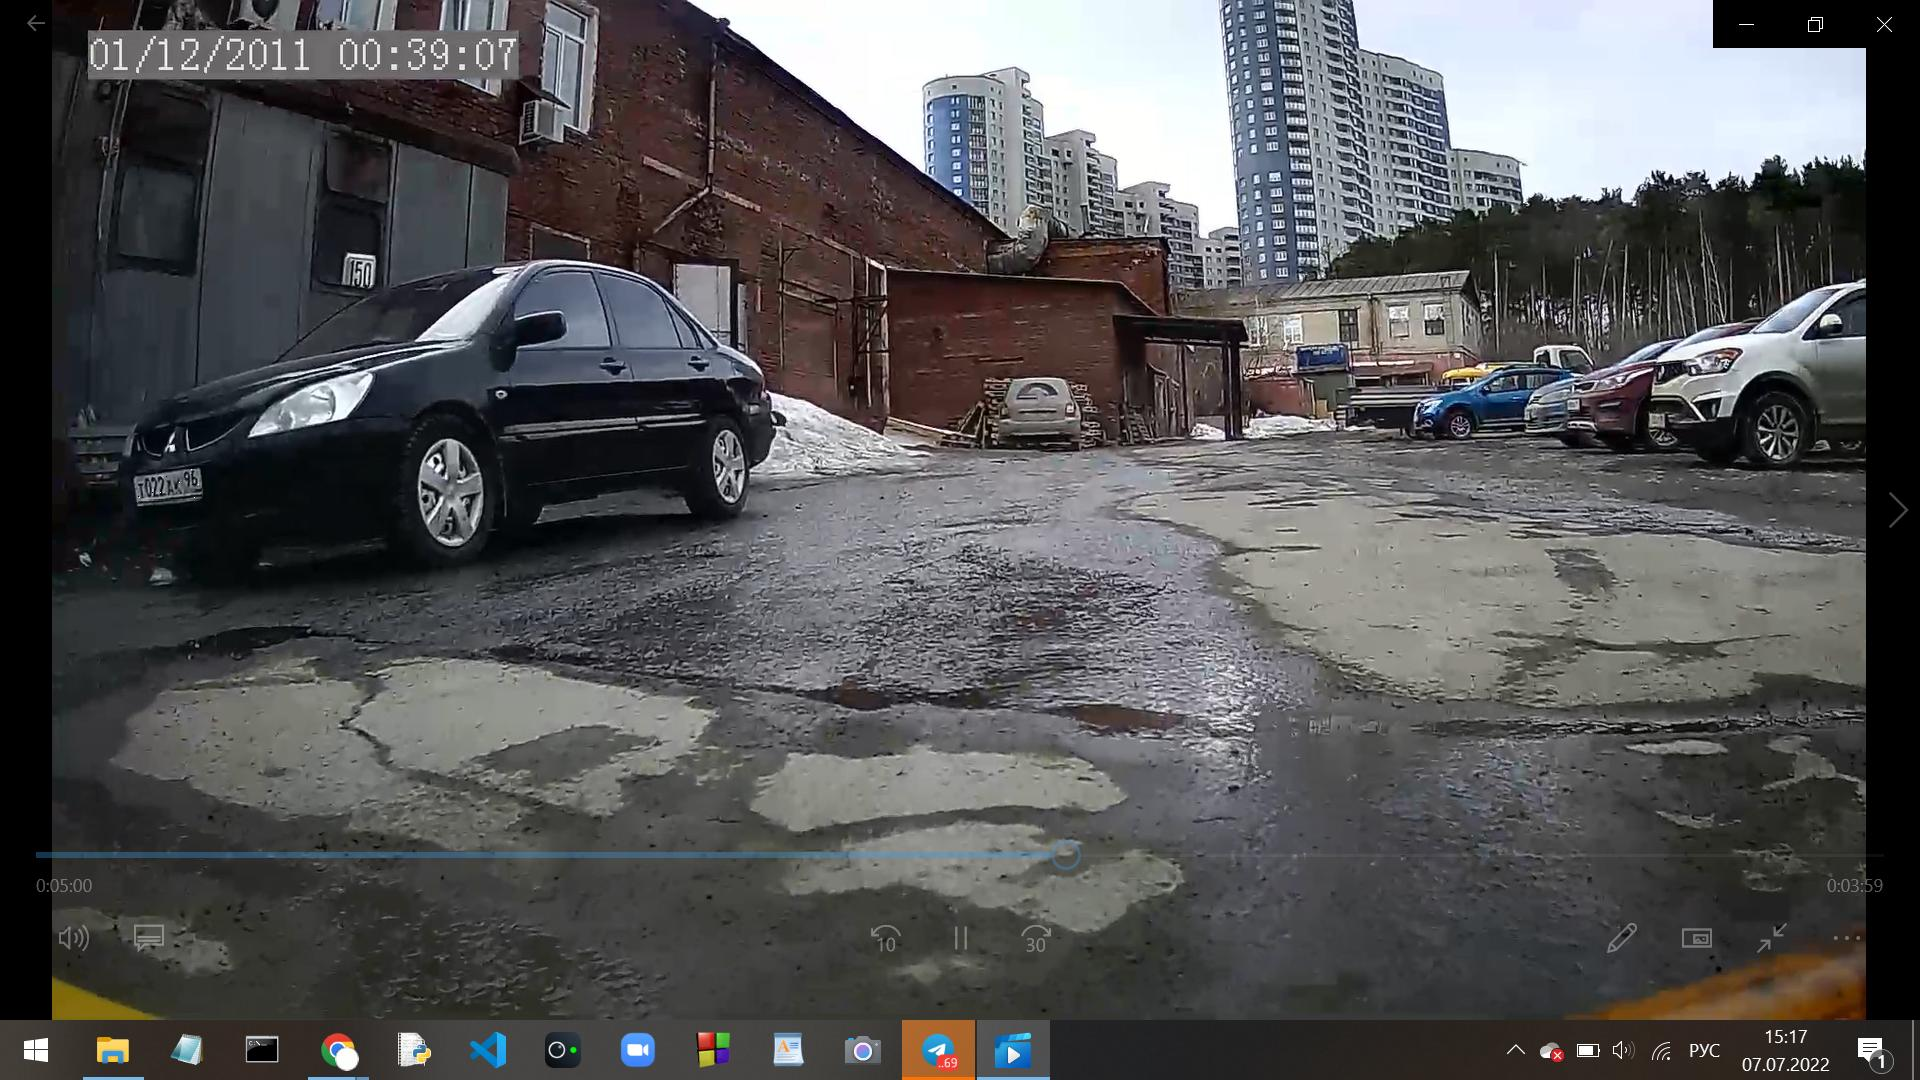plate: (134, 471, 205, 502)
